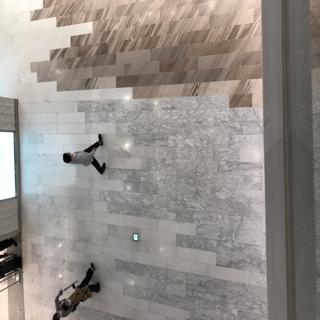person: (47, 263, 105, 320), (50, 132, 115, 182)
